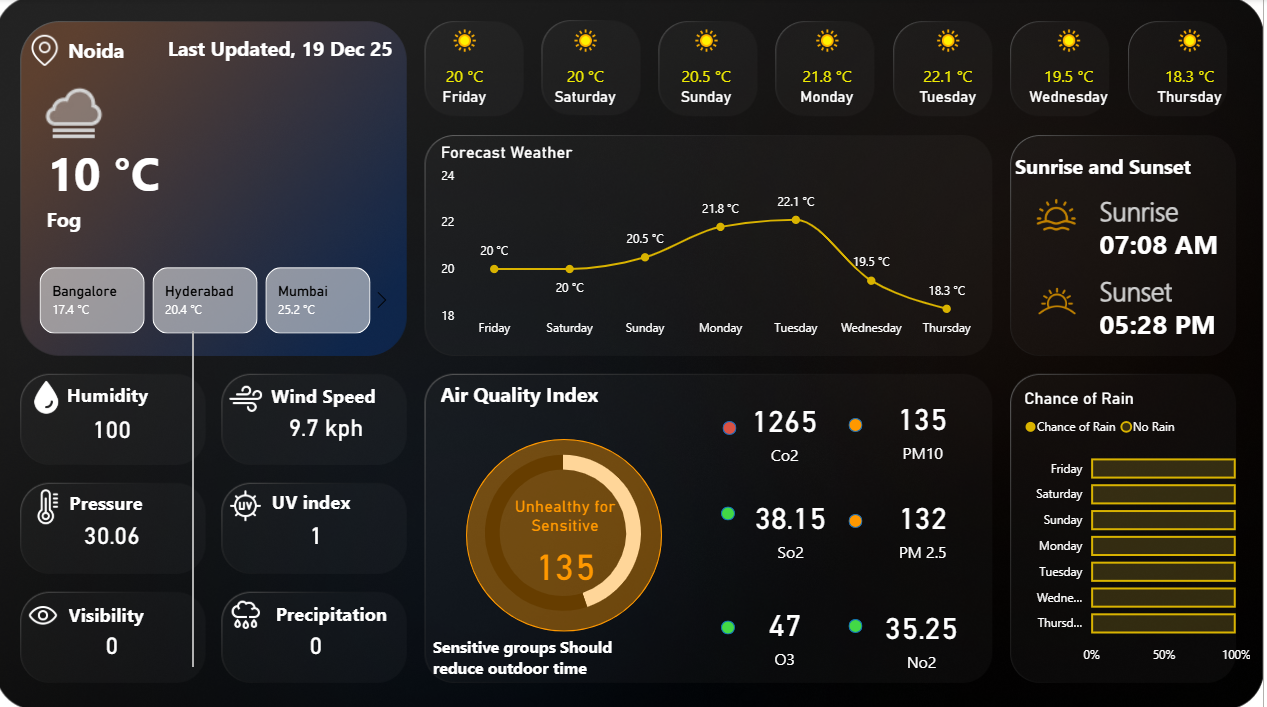

What the dashboard file says about the page in this screenshot:
{"tool":"powerbi","page":{"name":"Weather Dashboard","canvas":[1280,720],"ordinal":0},"visuals":[{"type":"donutChart","fields":{"Y":["Sum(Current_data.current.air_quality.pm10)","All_Measure.Left_value_PM10"]},"box":[449.9,435.5,246.5,206.9],"z":0},{"type":"shape","box":[475.1,444.5,197.9,194.3],"z":1000},{"type":"advancedSlicerVisual","fields":{"Values":["Location.location.name"]},"box":[19.8,266.3,386.9,77.4],"z":2000},{"type":"shape","box":[49.1,139.8,245.7,60.5],"z":3000},{"type":"shape","box":[49.1,200.3,245.7,47.2],"z":4000},{"type":"shape","box":[70.2,25.2,129.6,54],"z":5000},{"type":"shape","box":[167.3,23.4,237.5,55.8],"z":6000},{"type":"image","box":[15.1,32.1,69.9,41.6],"z":7000},{"type":"cardVisual","fields":{"Data":["Min(Current_data.current.condition.icon)"]},"box":[18.9,52.9,102,94.5],"z":8000},{"type":"shape","box":[71.8,600.9,100.2,41.6],"z":9000},{"type":"shape","box":[275.9,379.8,130.4,41.6],"z":10000},{"type":"shape","box":[71.8,483.8,94.5,52.9],"z":11000},{"type":"shape","box":[275.9,481.9,124.7,52.9],"z":12000},{"type":"shape","box":[69.9,379.8,94.5,39.7],"z":13000},{"type":"shape","box":[279.7,599.1,126.6,43.5],"z":14000},{"type":"image","box":[230.6,381.7,45.4,45.4],"z":15000},{"type":"image","box":[30.2,491.3,45.4,45.4],"z":16000},{"type":"image","box":[230.6,491.3,45.4,43.5],"z":17000},{"type":"image","box":[26.5,600.9,45.4,43.5],"z":18000},{"type":"image","box":[28.3,379.8,45.4,45.4],"z":19000},{"type":"image","box":[230.6,599.1,45.4,45.4],"z":20000},{"type":"card","fields":{"Values":["Sum(Current_data.current.humidity)"]},"box":[73.7,406.3,86.9,56.7],"z":21000},{"type":"card","fields":{"Values":["All_Measure.wind_Speed"]},"box":[279.8,404,107.3,56.8],"z":22000},{"type":"card","fields":{"Values":["Sum(Current_data.current.pressure_in)"]},"box":[73.7,514,86.9,56.7],"z":23000},{"type":"card","fields":{"Values":["Sum(Current_data.current.uv)"]},"box":[279.7,514,86.9,56.7],"z":24000},{"type":"card","fields":{"Values":["Sum(Current_data.current.vis_km)"]},"box":[73.7,623.6,86.9,56.7],"z":25000},{"type":"card","fields":{"Values":["Sum(Current_data.current.precip_in)"]},"box":[279.7,623.6,86.9,56.7],"z":26000},{"type":"advancedSlicerVisual","fields":{"Values":["Forcast_day.Day_Name"]},"box":[411.9,16.9,860,110.8],"z":27000},{"type":"lineChart","title":"Forecast Weather","fields":{"Y":["Sum(Forcast_day.forecast.forecastday.day.avgtemp_c)"],"Category":["Forcast_day.Day_Name"]},"box":[444.5,145.8,550.6,205.1],"z":28000},{"type":"shape","box":[1024.8,139,202.6,61.3],"z":29000},{"type":"shape","box":[1112,223.8,131.9,47.1],"z":30000},{"type":"shape","box":[1112,303.9,131.9,47.1],"z":31000},{"type":"shape","box":[1112,190.8,131.9,47.1],"z":32000},{"type":"shape","box":[1112,270.9,131.9,47.1],"z":33000},{"type":"image","box":[1041.3,275.6,60,60],"z":34000},{"type":"image","box":[1046,193.2,49.5,49.5],"z":35000},{"type":"hundredPercentStackedBarChart","title":"Chance of Rain","fields":{"Y":["Sum(Forcast_day.forecast.forecastday.day.daily_chance_of_rain)","All_Measure.Left_value_Rain"],"Category":["Forcast_day.Day_Name"]},"box":[1034.2,393.4,237.9,287.4],"z":36000},{"type":"shape","box":[445.3,369.9,202.6,61.3],"z":37000},{"type":"card","fields":{"Values":["Sum(Current_data.current.air_quality.pm10)"]},"box":[862.4,385.2,146,98.7],"z":38000},{"type":"card","fields":{"Values":["Sum(Current_data.current.air_quality.pm2_5)"]},"box":[862.4,485.3,146,98.7],"z":39000},{"type":"card","fields":{"Values":["Sum(Current_data.current.air_quality.no2)"]},"box":[858.3,594.8,152.7,98.7],"z":40000},{"type":"card","fields":{"Values":["Sum(Current_data.current.air_quality.co)"]},"box":[723.2,386.6,146,98.7],"z":41000},{"type":"card","fields":{"Values":["Sum(Current_data.current.air_quality.so2)"]},"box":[729.9,485.3,146,98.7],"z":42000},{"type":"card","fields":{"Values":["Sum(Current_data.current.air_quality.o3)"]},"box":[723.2,592.1,146,98.7],"z":43000},{"type":"shape","box":[862.2,424.1,14.1,14.1],"z":44000},{"type":"shape","box":[735,426.4,14.1,14.1],"z":45000},{"type":"shape","box":[732.7,513.6,14.1,14.1],"z":46000},{"type":"shape","box":[732.7,629,14.1,14.1],"z":47000},{"type":"shape","box":[862.2,520.6,14.1,14.1],"z":48000},{"type":"shape","box":[862.2,626.7,14.1,14.1],"z":49000},{"type":"shape","box":[175.6,336.2,48.5,339.2],"z":50000},{"type":"card","fields":{"Values":["Sum(Current_data.current.air_quality.pm10)"]},"box":[502,502,145.8,99],"z":51000},{"type":"shape","box":[437.3,635.2,203.3,61.2],"z":52000}]}

Visuals, with their boxes in screenshot pixels (x1, y1, x2, y2), scaled from the page's 1280x720 canvas onto the 1267x707 screenshot:
donutChart - Sum(Current_data.current.air_quality.pm10) x All_Measure.Left_value_PM10: Rect(445, 428, 689, 631)
shape: Rect(470, 436, 666, 627)
advancedSlicerVisual - Location.location.name: Rect(20, 261, 403, 337)
shape: Rect(49, 137, 292, 197)
shape: Rect(49, 197, 292, 243)
shape: Rect(69, 25, 198, 78)
shape: Rect(166, 23, 401, 78)
image: Rect(15, 32, 84, 72)
cardVisual - Min(Current_data.current.condition.icon): Rect(19, 52, 120, 145)
shape: Rect(71, 590, 170, 631)
shape: Rect(273, 373, 402, 414)
shape: Rect(71, 475, 165, 527)
shape: Rect(273, 473, 397, 525)
shape: Rect(69, 373, 163, 412)
shape: Rect(277, 588, 402, 631)
image: Rect(228, 375, 273, 419)
image: Rect(30, 482, 75, 527)
image: Rect(228, 482, 273, 525)
image: Rect(26, 590, 71, 633)
image: Rect(28, 373, 73, 418)
image: Rect(228, 588, 273, 633)
card - Sum(Current_data.current.humidity): Rect(73, 399, 159, 455)
card - All_Measure.wind_Speed: Rect(277, 397, 383, 452)
card - Sum(Current_data.current.pressure_in): Rect(73, 505, 159, 560)
card - Sum(Current_data.current.uv): Rect(277, 505, 363, 560)
card - Sum(Current_data.current.vis_km): Rect(73, 612, 159, 668)
card - Sum(Current_data.current.precip_in): Rect(277, 612, 363, 668)
advancedSlicerVisual - Forcast_day.Day_Name: Rect(408, 17, 1259, 125)
"Forecast Weather" lineChart: Rect(440, 143, 985, 345)
shape: Rect(1014, 136, 1215, 197)
shape: Rect(1101, 220, 1231, 266)
shape: Rect(1101, 298, 1231, 345)
shape: Rect(1101, 187, 1231, 234)
shape: Rect(1101, 266, 1231, 312)
image: Rect(1031, 271, 1090, 330)
image: Rect(1035, 190, 1084, 238)
"Chance of Rain" hundredPercentStackedBarChart: Rect(1024, 386, 1259, 669)
shape: Rect(441, 363, 641, 423)
card - Sum(Current_data.current.air_quality.pm10): Rect(854, 378, 998, 475)
card - Sum(Current_data.current.air_quality.pm2_5): Rect(854, 477, 998, 573)
card - Sum(Current_data.current.air_quality.no2): Rect(850, 584, 1001, 681)
card - Sum(Current_data.current.air_quality.co): Rect(716, 380, 860, 477)
card - Sum(Current_data.current.air_quality.so2): Rect(722, 477, 867, 573)
card - Sum(Current_data.current.air_quality.o3): Rect(716, 581, 860, 678)
shape: Rect(853, 416, 867, 430)
shape: Rect(728, 419, 741, 433)
shape: Rect(725, 504, 739, 518)
shape: Rect(725, 618, 739, 631)
shape: Rect(853, 511, 867, 525)
shape: Rect(853, 615, 867, 629)
shape: Rect(174, 330, 222, 663)
card - Sum(Current_data.current.air_quality.pm10): Rect(497, 493, 641, 590)
shape: Rect(433, 624, 634, 684)
